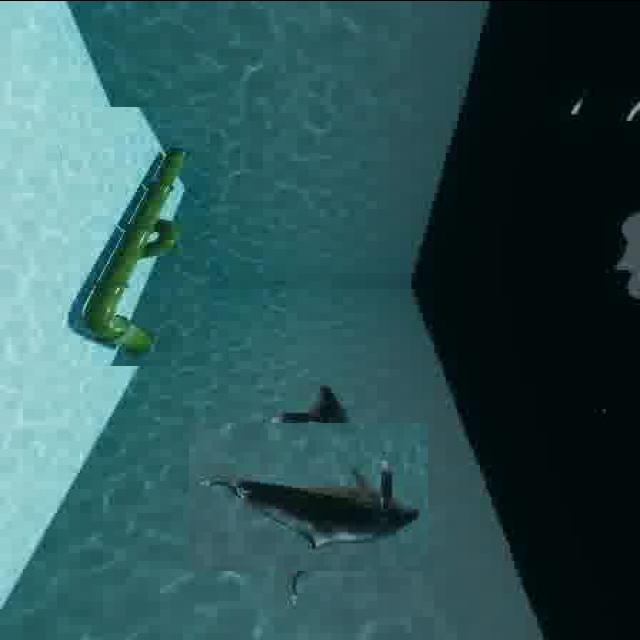Pipe: (62, 106, 210, 365)
Whale: (212, 398, 406, 592)
